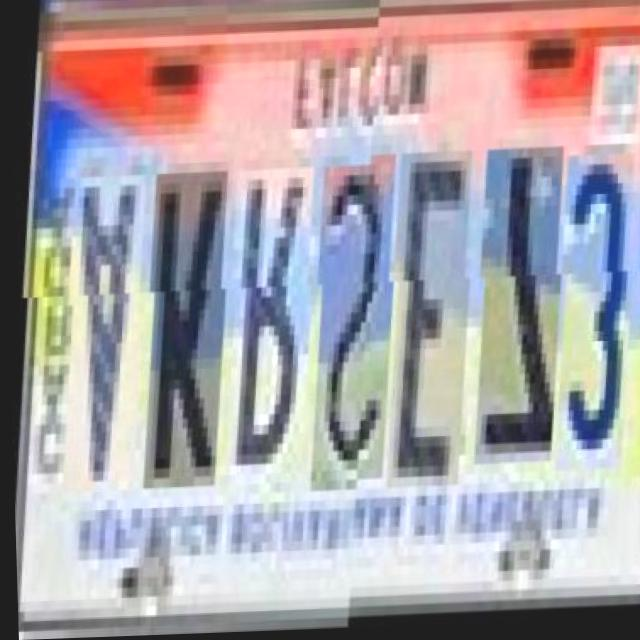3: (542, 159, 637, 477)
7: (462, 151, 566, 469)
a: (48, 166, 150, 484)
e: (373, 156, 475, 491)
k: (130, 163, 231, 480)
r: (213, 161, 317, 477)
s: (297, 157, 399, 484)
